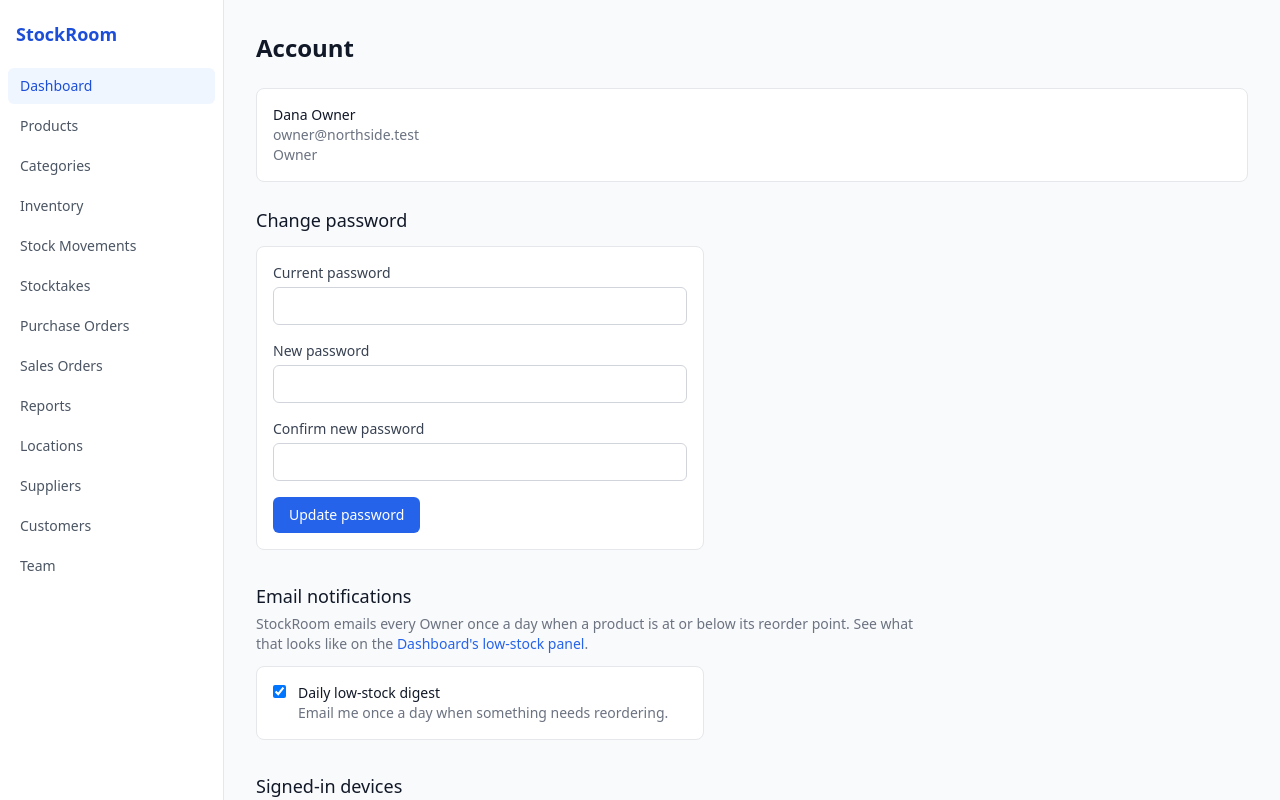
Test case: AccountPage change password › shows a success message, then signs out everywhere a couple of seconds later
Type "old-password" into the password field labelled "Current password" at point(480, 306), box left=273, top=287, right=687, bottom=325
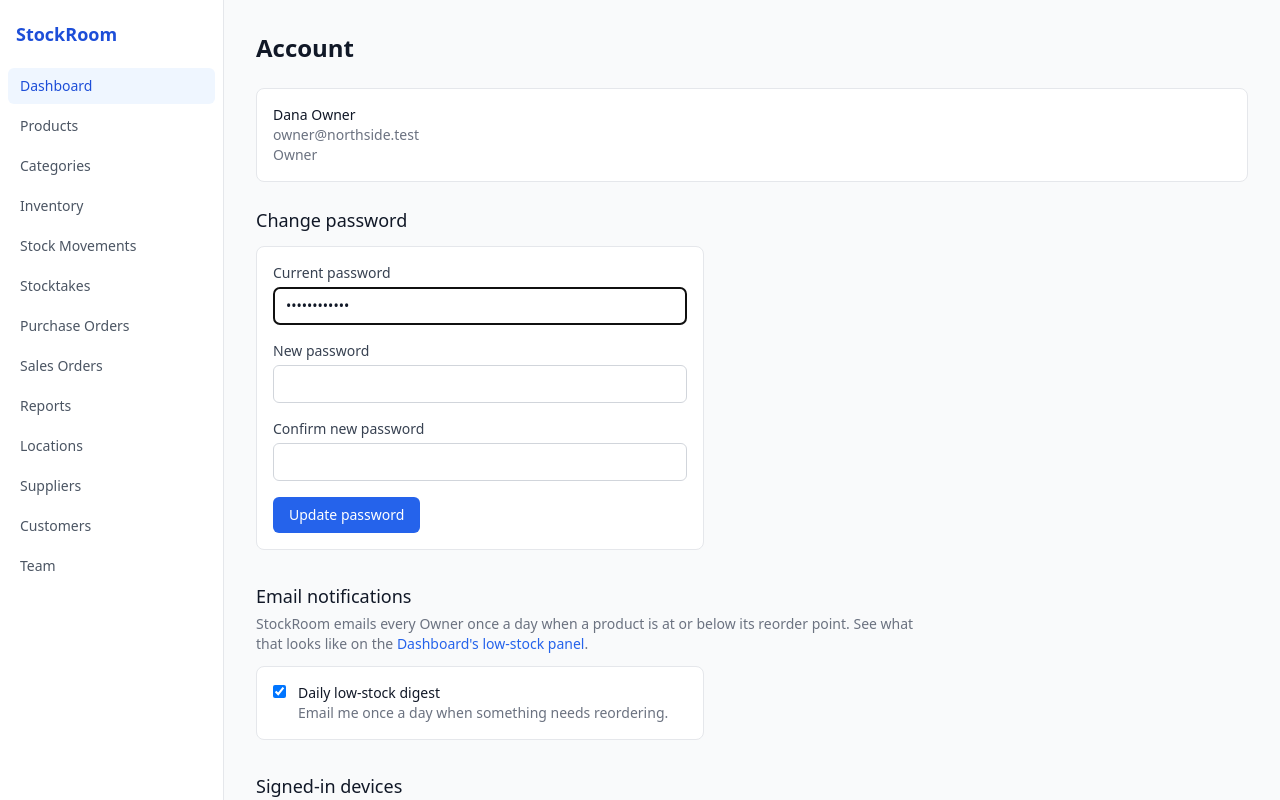
Type "new-password-1" into the password field labelled "New password" at point(480, 384), box left=273, top=365, right=687, bottom=403
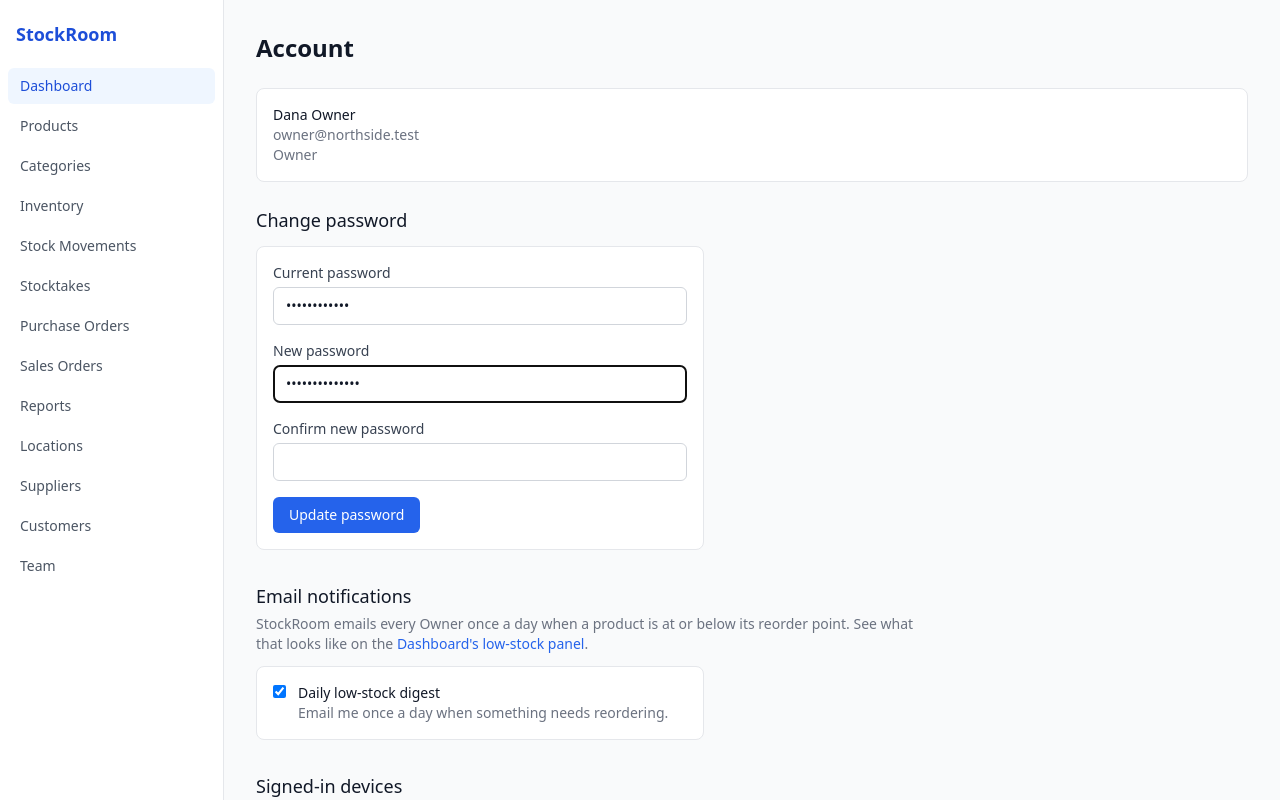
Type "new-password-1" into the password field labelled "Confirm new password" at point(480, 462), box left=273, top=443, right=687, bottom=481
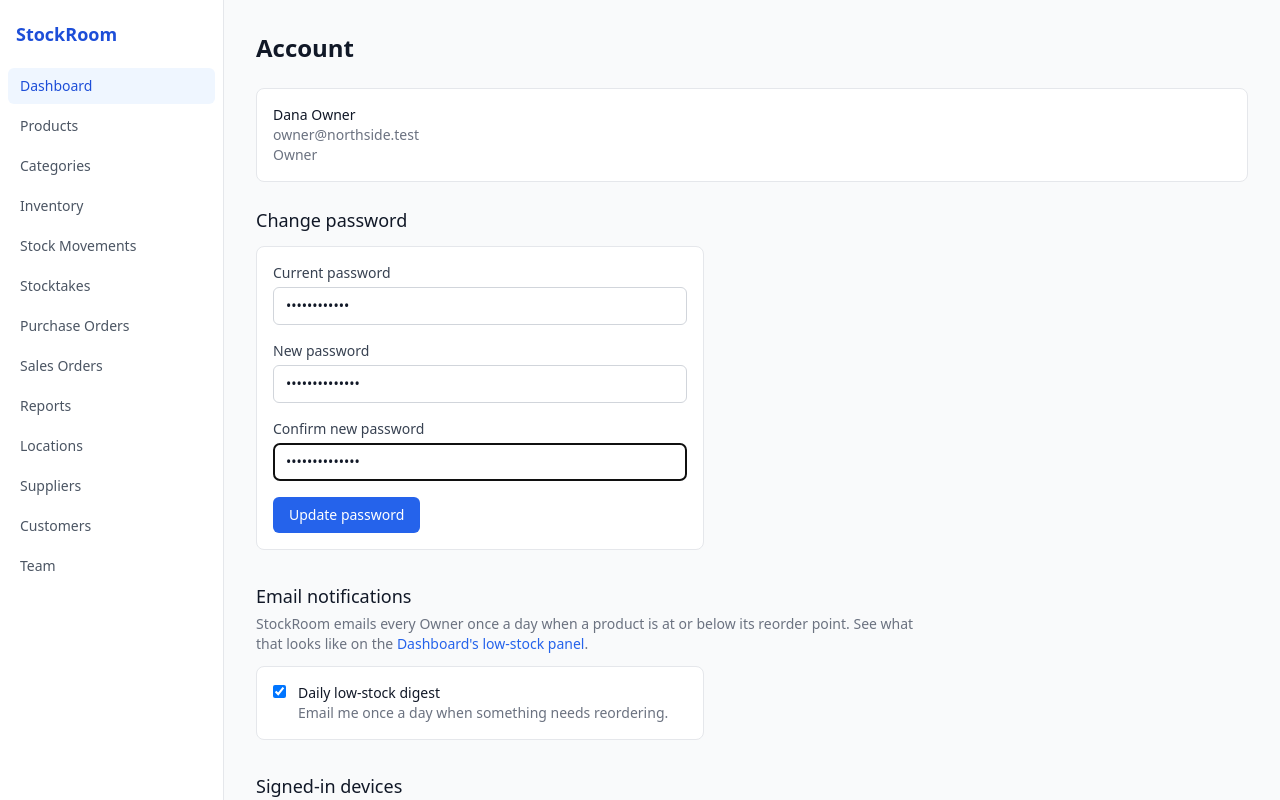
Click the button "Update password" at point(347, 515), box left=273, top=497, right=420, bottom=533
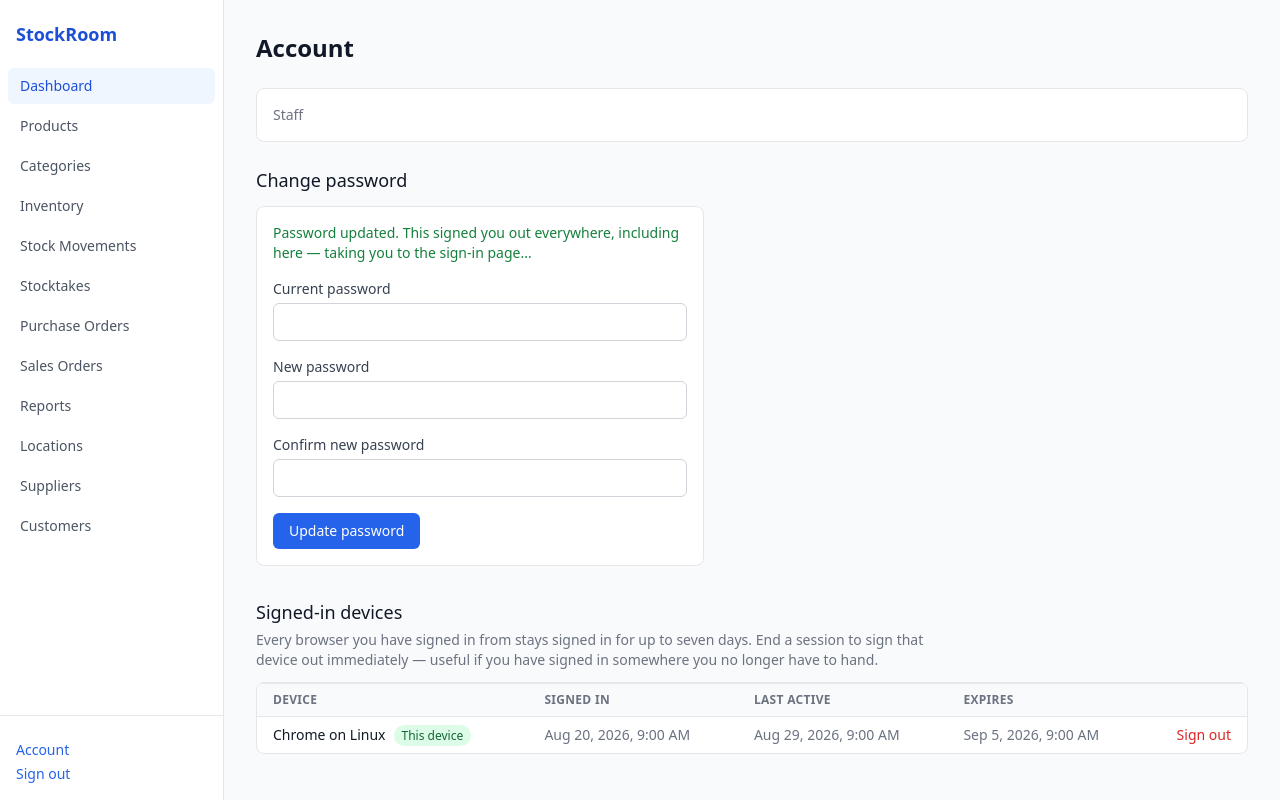
Result: the text "This signed you out everywhere" is shown at left=273, top=223, right=679, bottom=262
